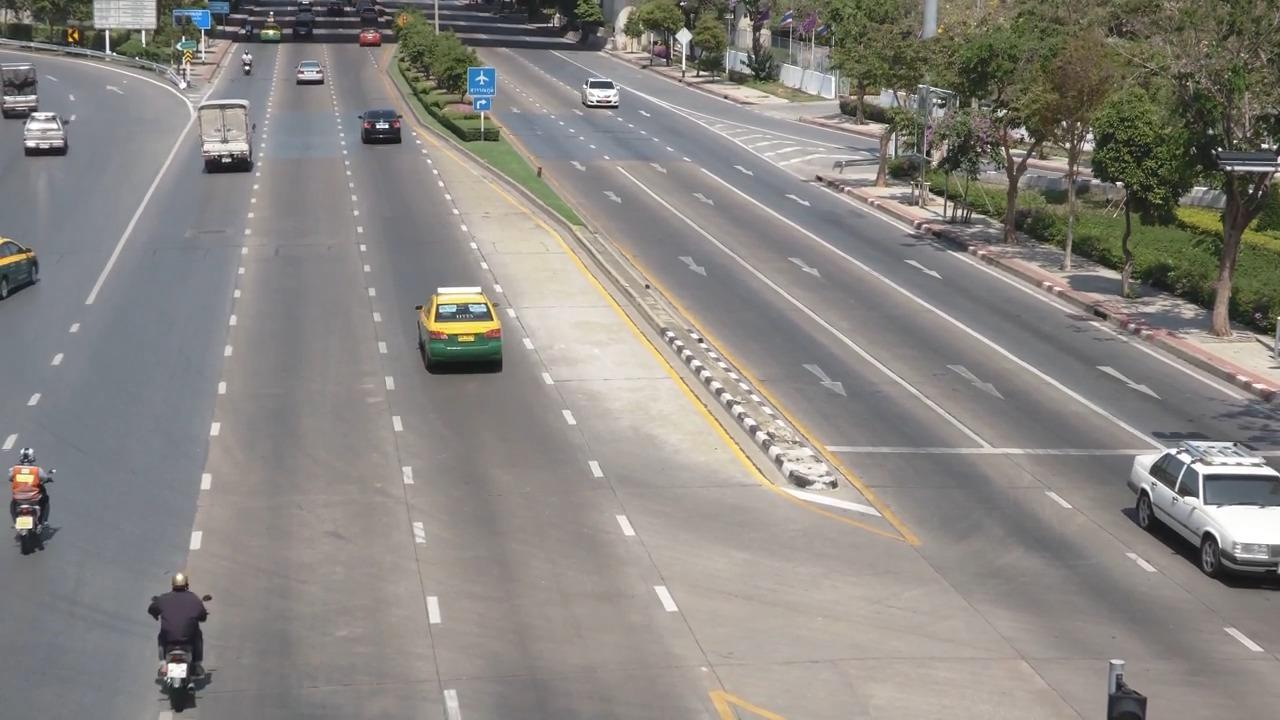CAR: (1117, 432, 1280, 588), (409, 272, 530, 385), (185, 86, 272, 199), (0, 222, 49, 312), (18, 109, 74, 176), (351, 97, 416, 153), (0, 62, 49, 132), (573, 73, 632, 121), (290, 51, 338, 94), (351, 19, 388, 56), (252, 23, 293, 53), (285, 24, 325, 51), (289, 9, 323, 37)
MOTOR: (134, 559, 229, 703), (0, 437, 62, 567), (235, 42, 261, 87)
